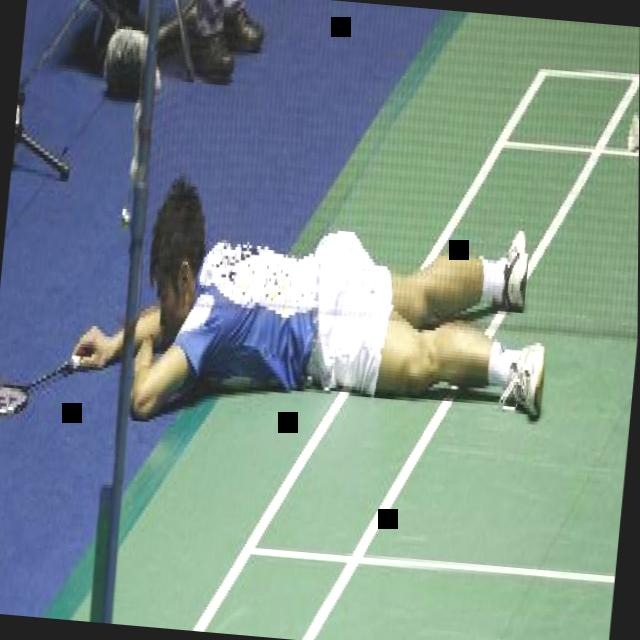Fall-Detected: (68, 127, 581, 451)
